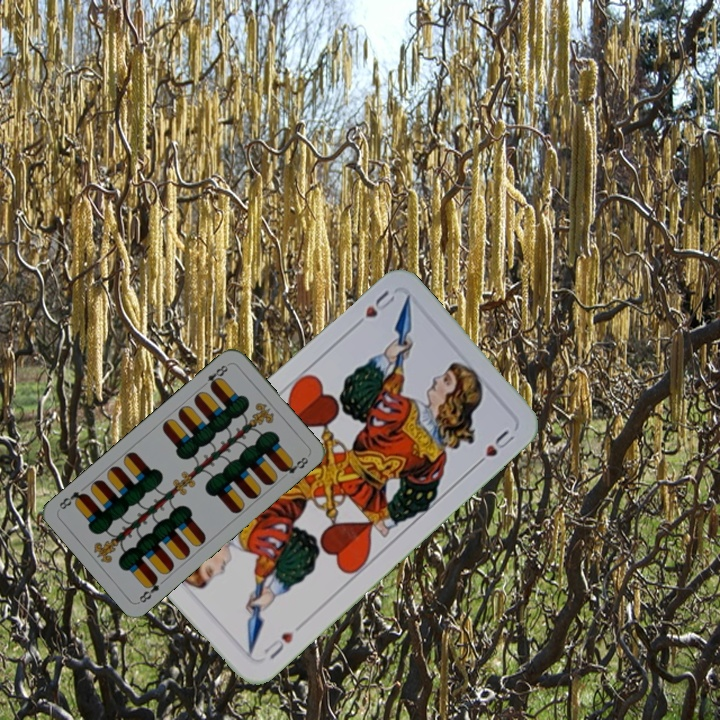E8: (198, 360, 232, 391), (135, 572, 162, 605)
HU: (348, 285, 398, 332), (259, 627, 297, 663)
